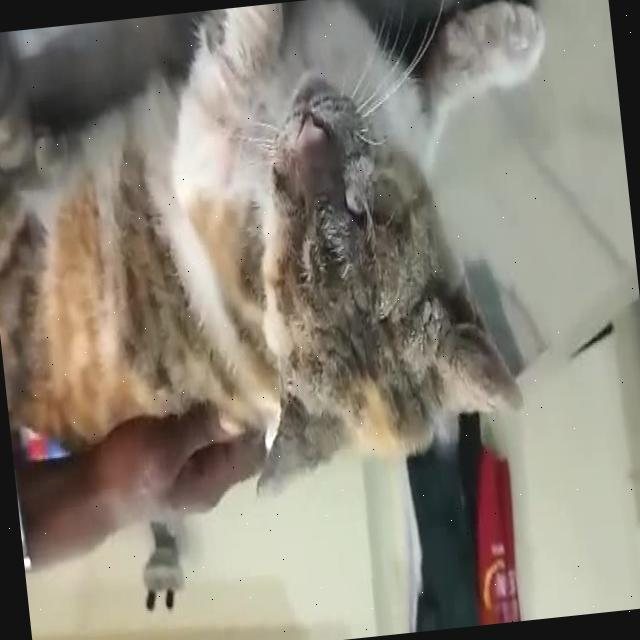cat-scabies: (248, 65, 406, 295), (400, 284, 525, 431), (240, 382, 354, 521)
